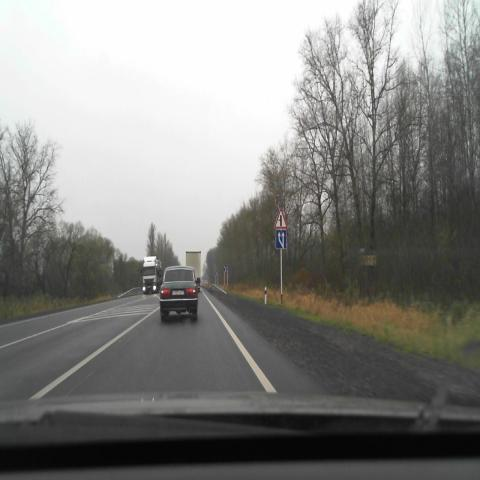2_3_3: (274, 206, 288, 228)
